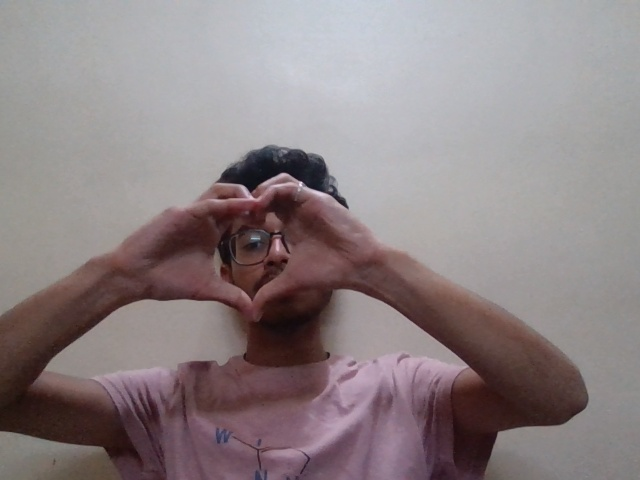silent-voice: (126, 169, 360, 335)
